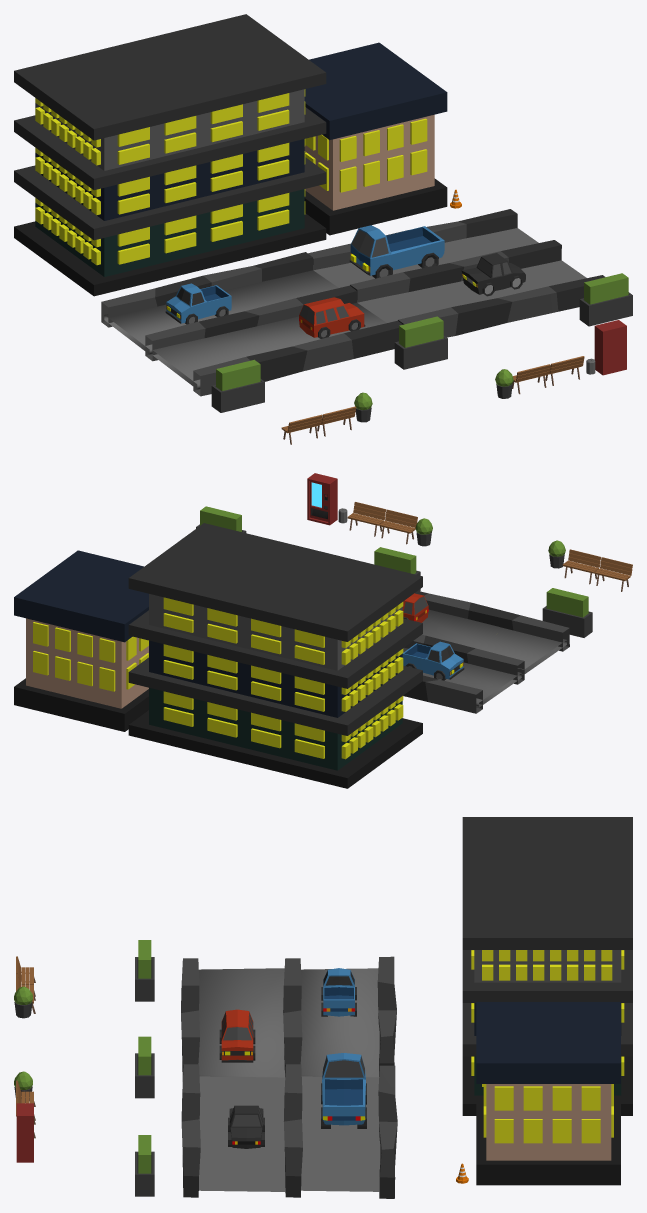
Rendered from ch02_left.fbx.
The picture shows the model from 3 angles, top to bottom: view 1: azimuth 30°, elevation 25°; view 2: azimuth 150°, elevation 25°; view 3: azimuth 270°, elevation 25°; orthographic projection. The views are drawn at different scales.
Parts seen in each view (by area): view 1: Ch02_Right; view 2: Ch02_Right; view 3: Ch02_Right.
Part boxes in pixels (<box>): Ch02_Right: <box>14,14,632,444</box>; Ch02_Right: <box>14,473,632,788</box>; Ch02_Right: <box>14,817,632,1198</box>.
Bounding box in the file's own units: 15.22 × 6.02 × 18.57.
